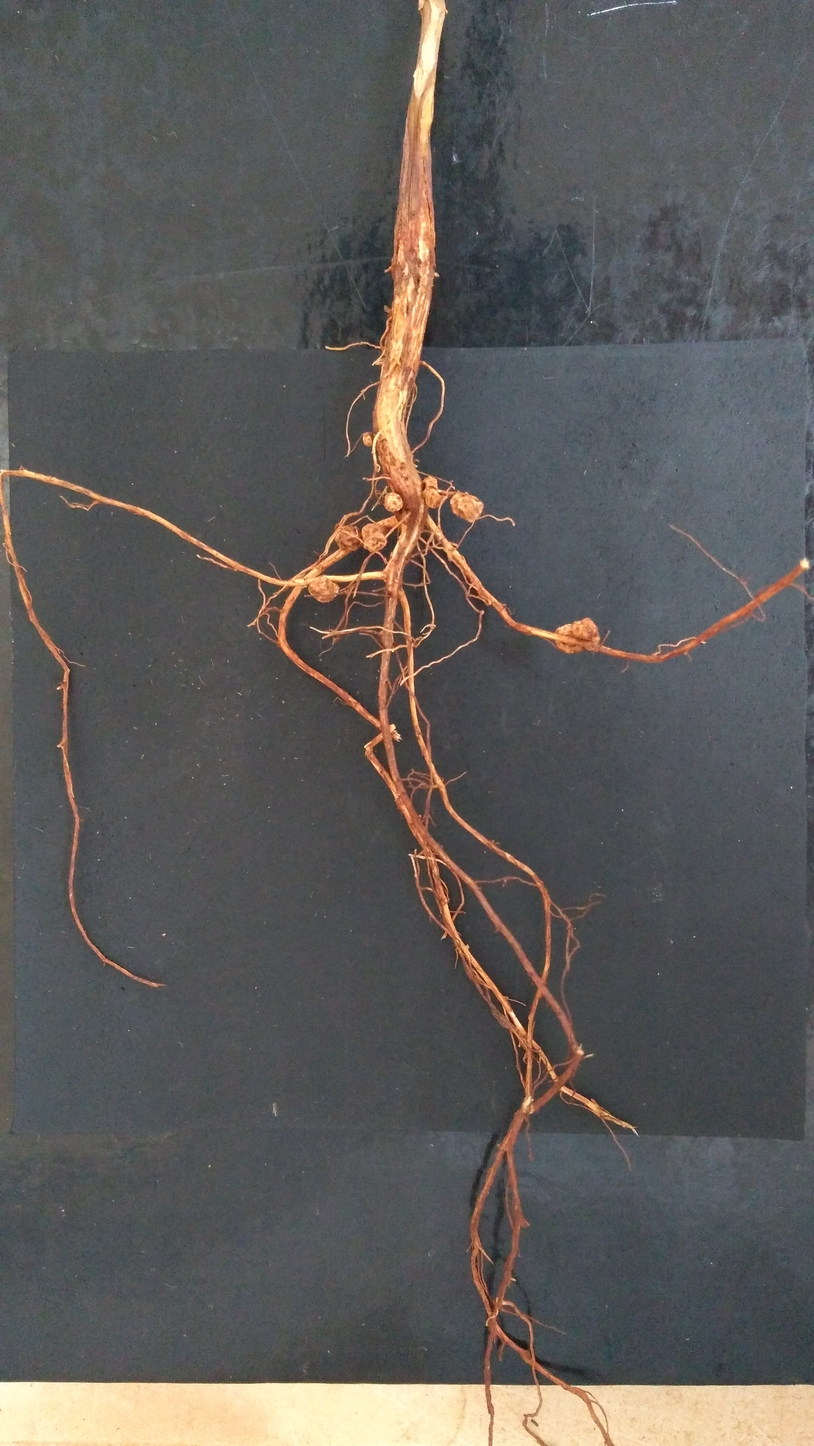nodule: (555, 618, 600, 653), (450, 493, 484, 522), (308, 576, 340, 602), (335, 522, 361, 552), (361, 523, 388, 551), (424, 489, 446, 508), (384, 492, 403, 513), (421, 476, 438, 498), (362, 431, 373, 446)
